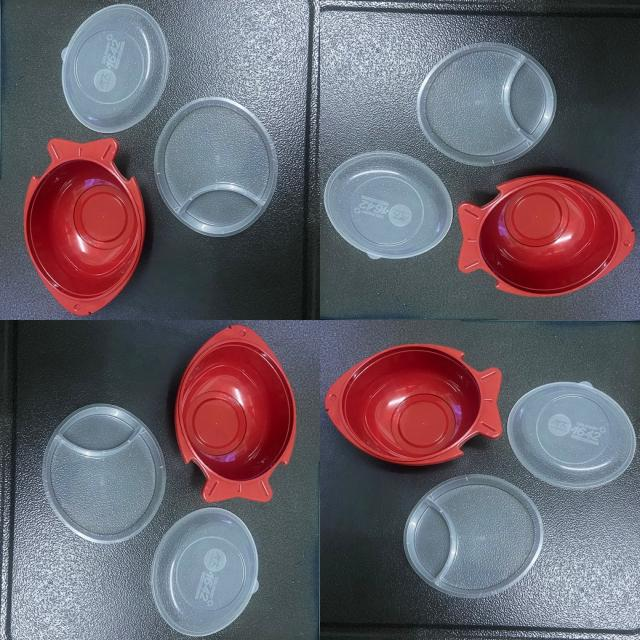Single-Use-Plastic: (24, 138, 145, 315), (458, 175, 635, 296), (175, 325, 296, 502), (325, 344, 502, 465), (416, 42, 556, 166), (42, 404, 165, 543), (155, 98, 278, 236), (404, 475, 541, 598), (61, 4, 169, 133), (151, 508, 259, 636), (508, 382, 636, 489), (325, 152, 452, 258)
